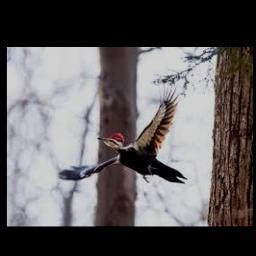Woodpecker: (58, 84, 187, 183)
